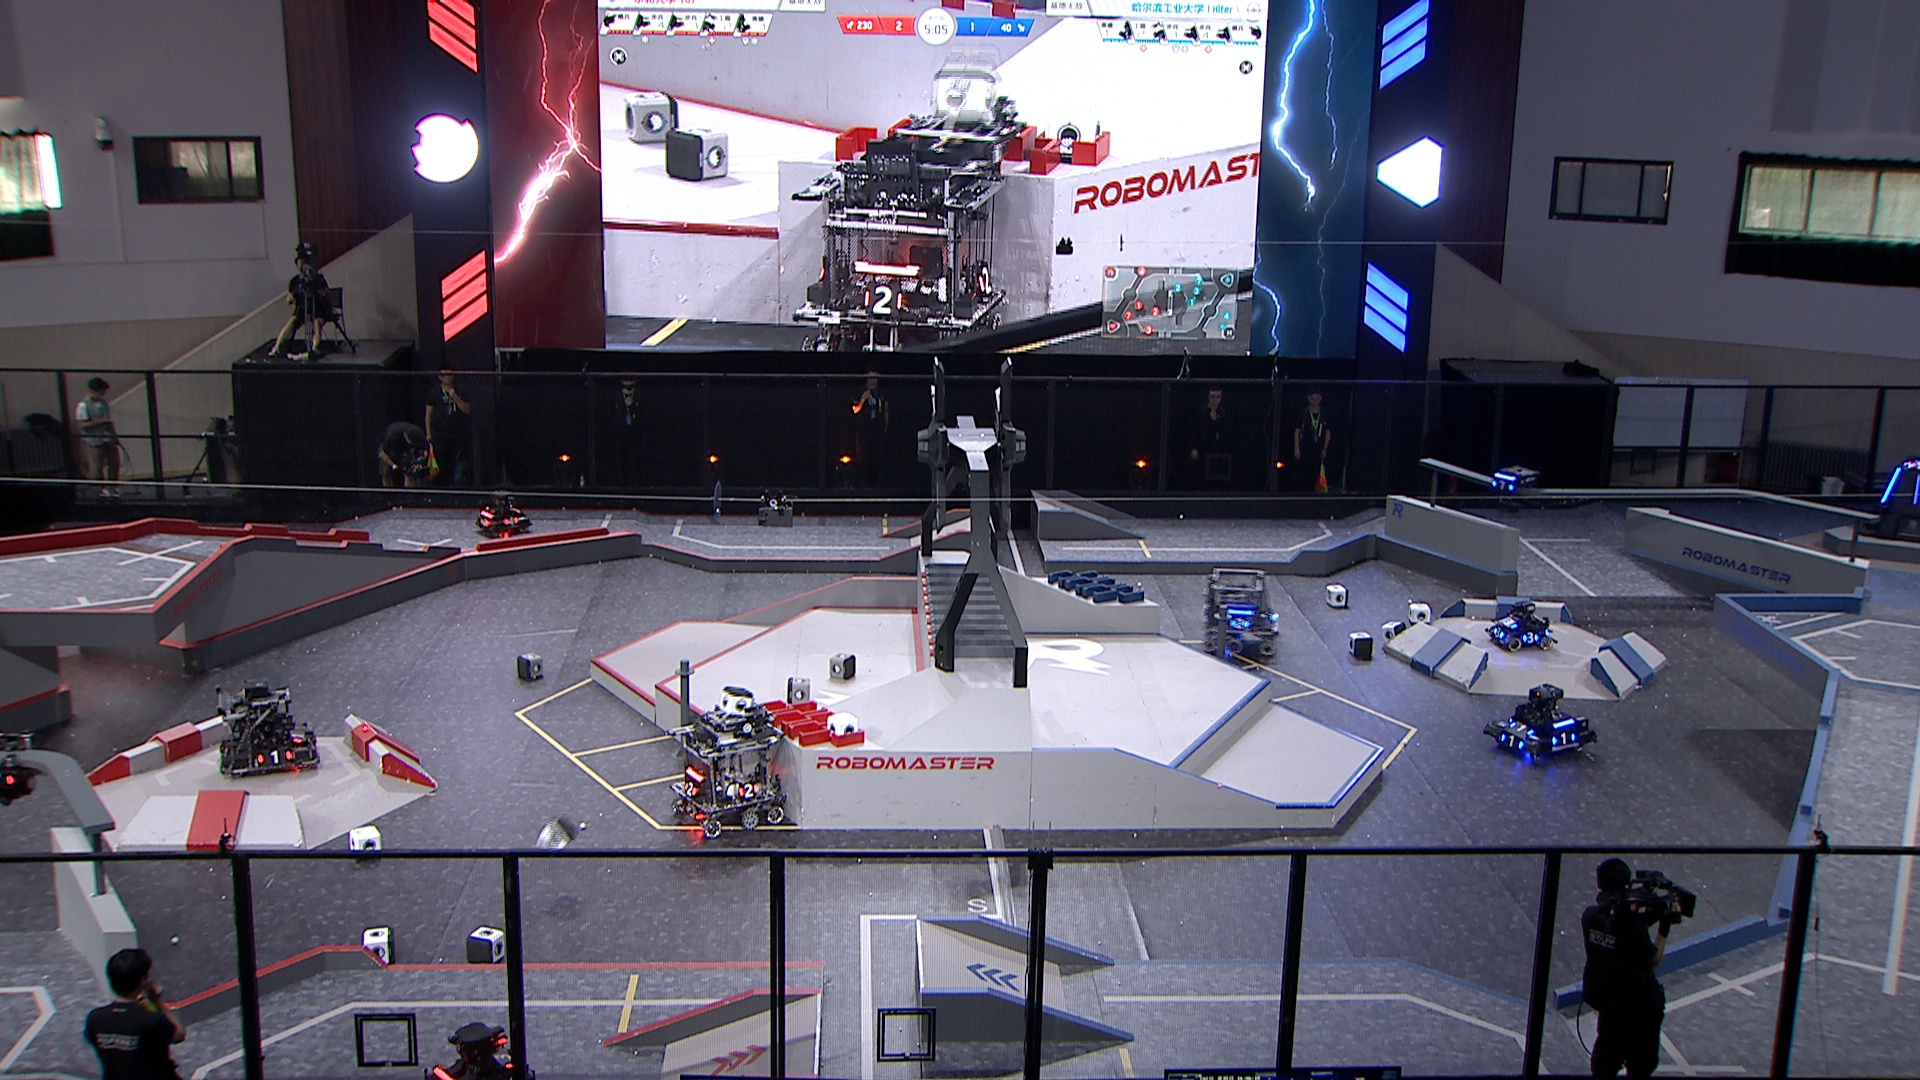armor: (1878, 467, 1902, 501), (495, 1046, 520, 1073), (1499, 731, 1524, 750), (256, 750, 291, 764), (737, 781, 760, 798), (1549, 731, 1576, 745), (1510, 721, 1536, 735), (680, 779, 699, 796), (1909, 473, 1920, 502), (309, 731, 320, 754), (1490, 624, 1506, 641), (1523, 629, 1542, 644), (1494, 477, 1514, 491), (291, 728, 305, 746), (1230, 617, 1250, 629), (1505, 616, 1519, 632), (505, 516, 520, 527), (479, 516, 493, 527), (509, 505, 520, 516)
base: (1861, 452, 1920, 542)
car: (665, 699, 789, 836), (206, 678, 324, 778), (1485, 680, 1600, 761), (1199, 566, 1280, 661), (411, 1021, 538, 1080), (1484, 597, 1556, 655), (471, 489, 534, 542)
ignore: (798, 131, 1007, 349)
watcher: (1490, 460, 1538, 518)
